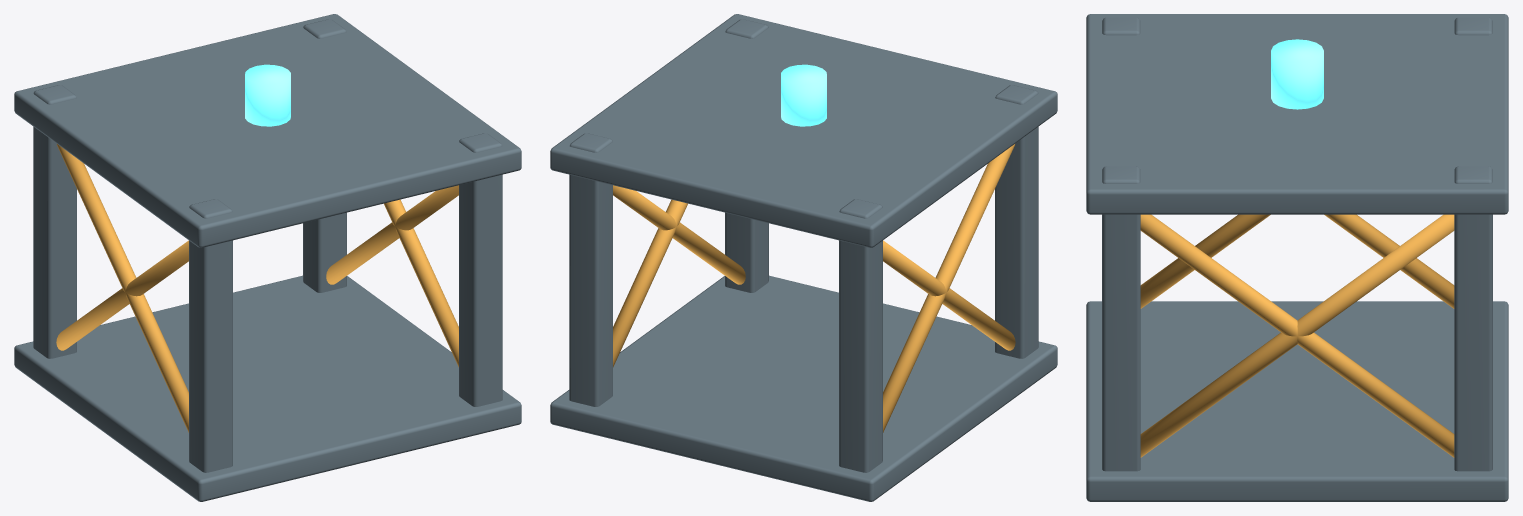
Rendered from SM_FE_TowerTop.fbx.
3 renders of one model, left to right at view 1: azimuth 30°, elevation 25°; view 2: azimuth 150°, elevation 25°; view 3: azimuth 270°, elevation 25°, orthographic. The views are drawn at different scales.
Parts seen in each view (by area): view 1: SM_FE_TowerTop; view 2: SM_FE_TowerTop; view 3: SM_FE_TowerTop.
Part boxes in pixels (<box>): SM_FE_TowerTop: <box>14,14,521,501</box>; SM_FE_TowerTop: <box>550,14,1057,501</box>; SM_FE_TowerTop: <box>1086,14,1508,501</box>.
Size of the model in its own units: 240 by 240 by 230.
